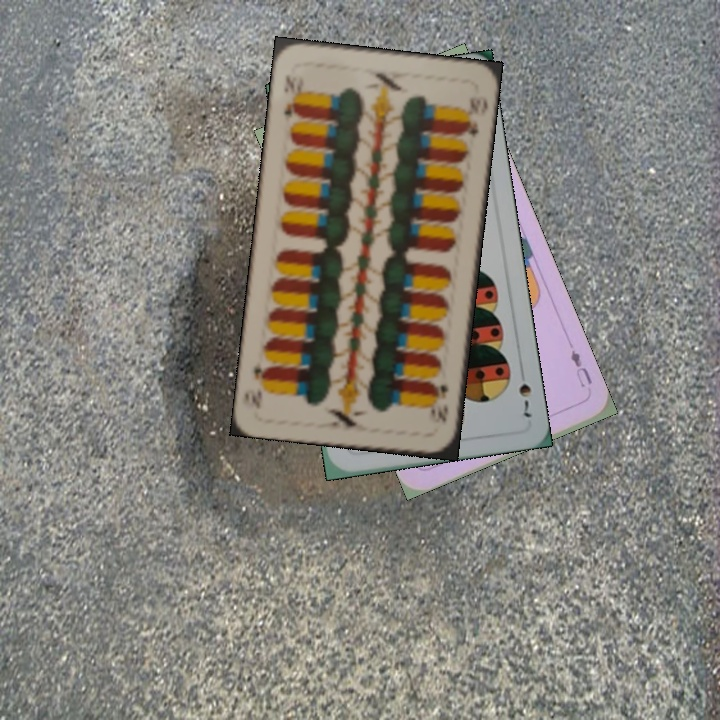E10: (280, 70, 302, 123), (427, 380, 451, 426)
EU: (566, 345, 595, 390)
S7: (515, 379, 536, 422)
